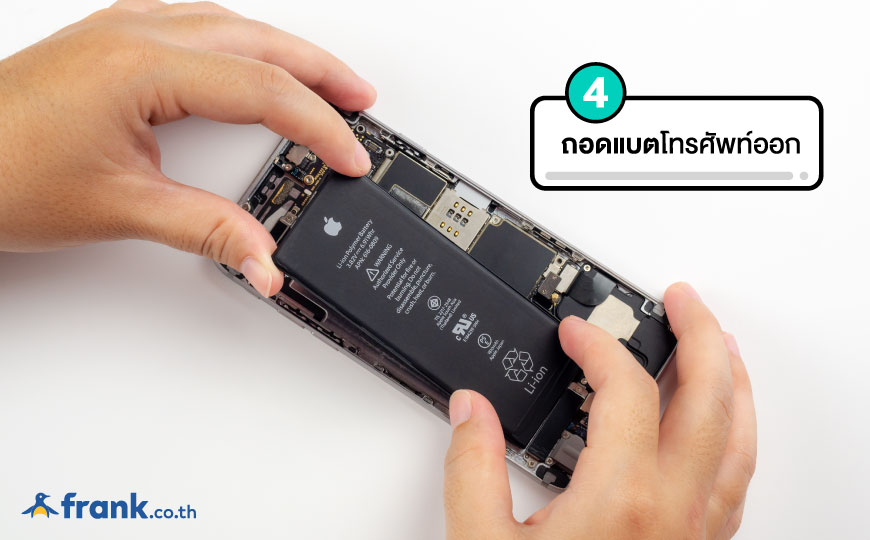Phone: (210, 94, 689, 498)
